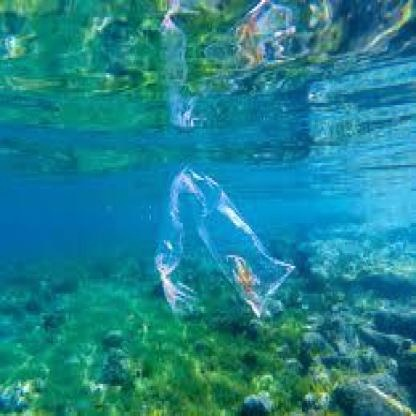pbag: (151, 161, 297, 330)
